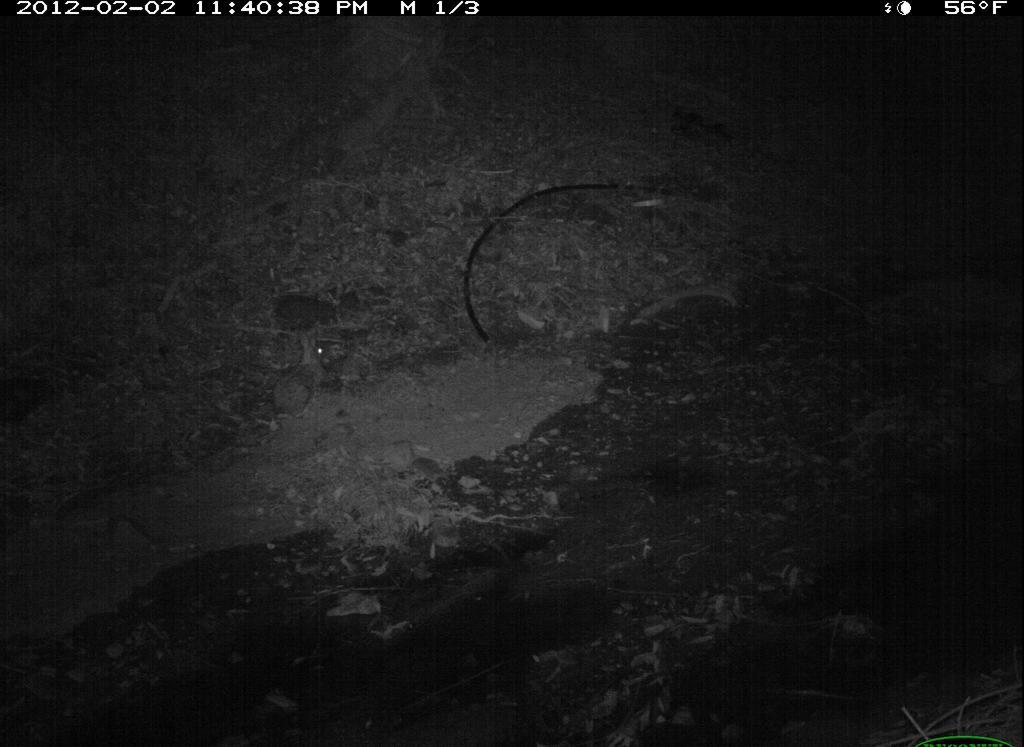rabbit: (264, 321, 335, 420)
